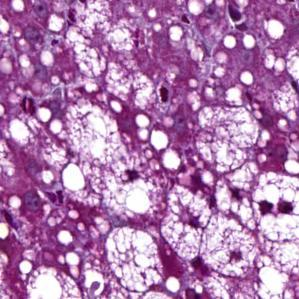ballooning: (193, 105, 263, 177), (196, 208, 263, 280), (158, 183, 214, 263)
